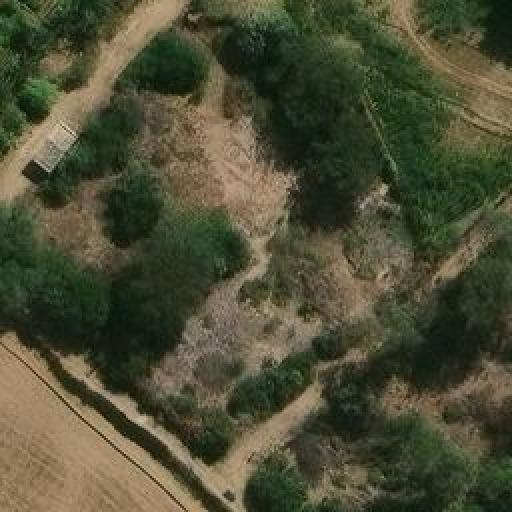manzanas: (21, 120, 79, 187)
